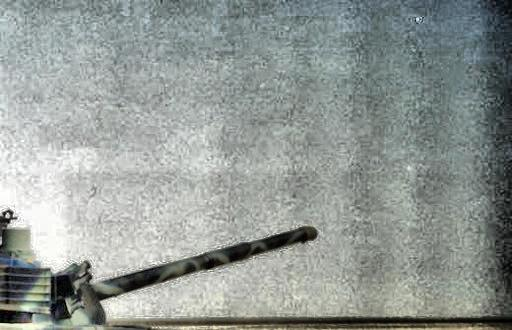tanks: (1, 213, 317, 330)
